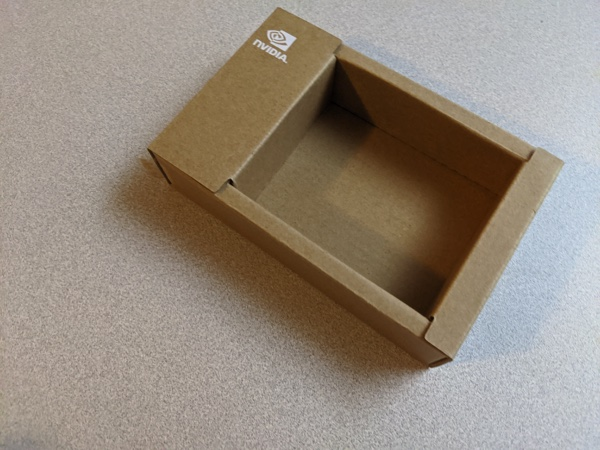cardboard: (135, 2, 577, 379)
